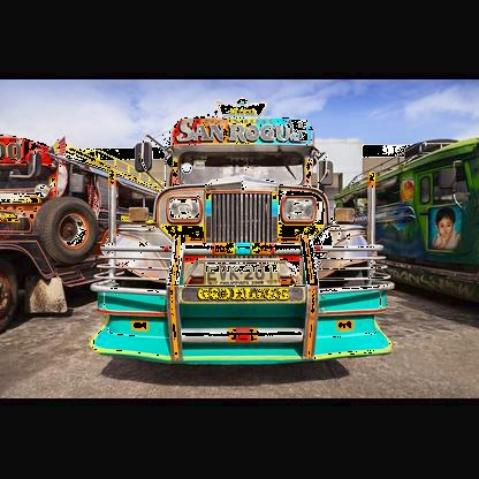jeepney: (94, 106, 402, 381)
